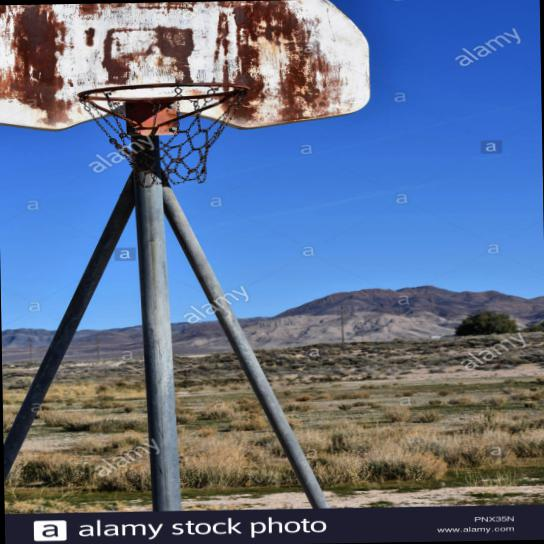basketball-hoop: (76, 82, 250, 188)
